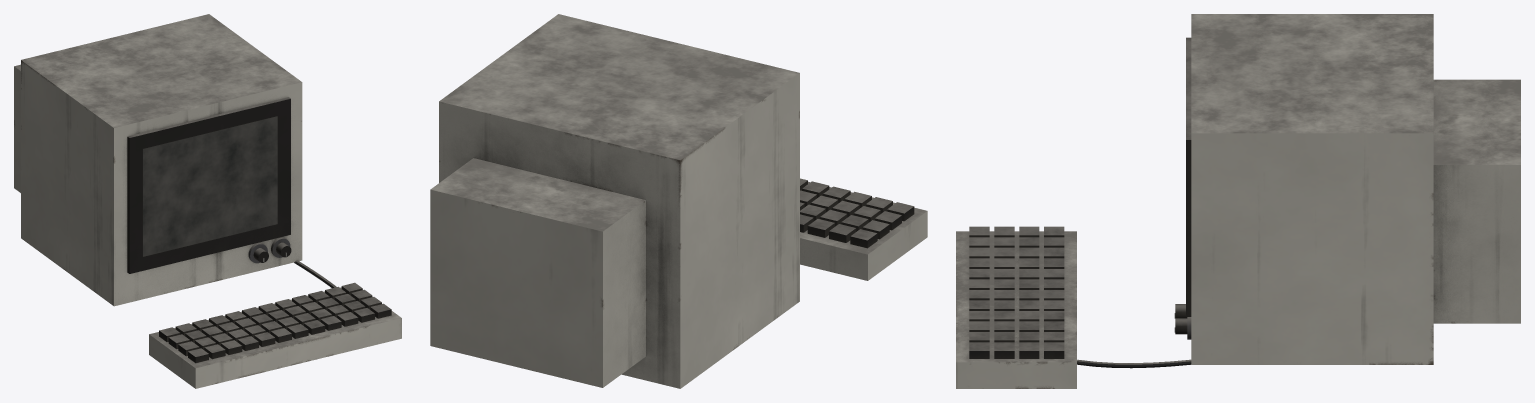
File: SM_ComputerTerminal_CRT.fbx
3 renders of one model, left to right at view 1: azimuth 30°, elevation 25°; view 2: azimuth 150°, elevation 25°; view 3: azimuth 270°, elevation 25°, orthographic. The views are drawn at different scales.
Parts seen in each view (by area): view 1: SM_ComputerTerminal_CRT; view 2: SM_ComputerTerminal_CRT; view 3: SM_ComputerTerminal_CRT.
Boxes of the visible parts, x1,y1,x2,y2 form: SM_ComputerTerminal_CRT: (14, 14, 401, 388); SM_ComputerTerminal_CRT: (430, 14, 927, 388); SM_ComputerTerminal_CRT: (956, 14, 1520, 388).
Size of the model in its own units: 0.46 by 0.41 by 0.84.
1 material, 1 textured.
